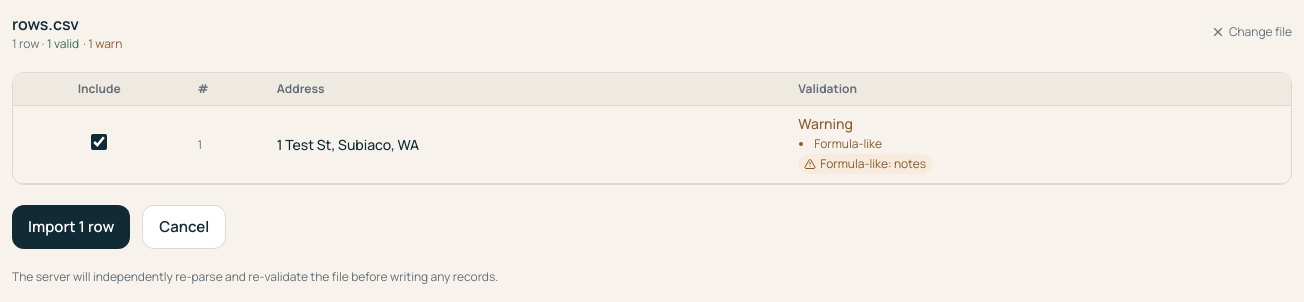
Scenario: M4.2 CSV and duplicate-review UI › shows server formula warnings and submits the original selected file
This screenshot has width=1304, height=302.
Earlier steps of the test are not shown.
expect the text "Formula-like: notes" is shown: met, box x1=798 y1=154 x2=932 y2=174
Click the button with test id "csv-confirm-import" at [71, 227], box x1=12 y1=205 x2=130 y2=249
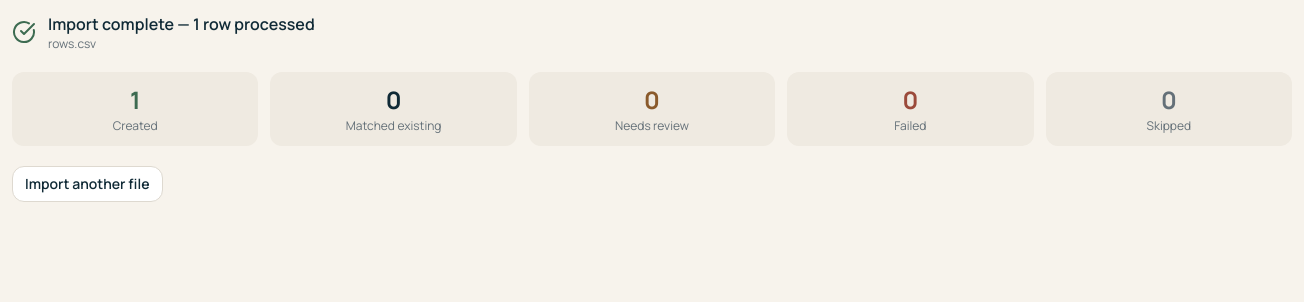
expect the element with test id "csv-batch-result" is shown: met
